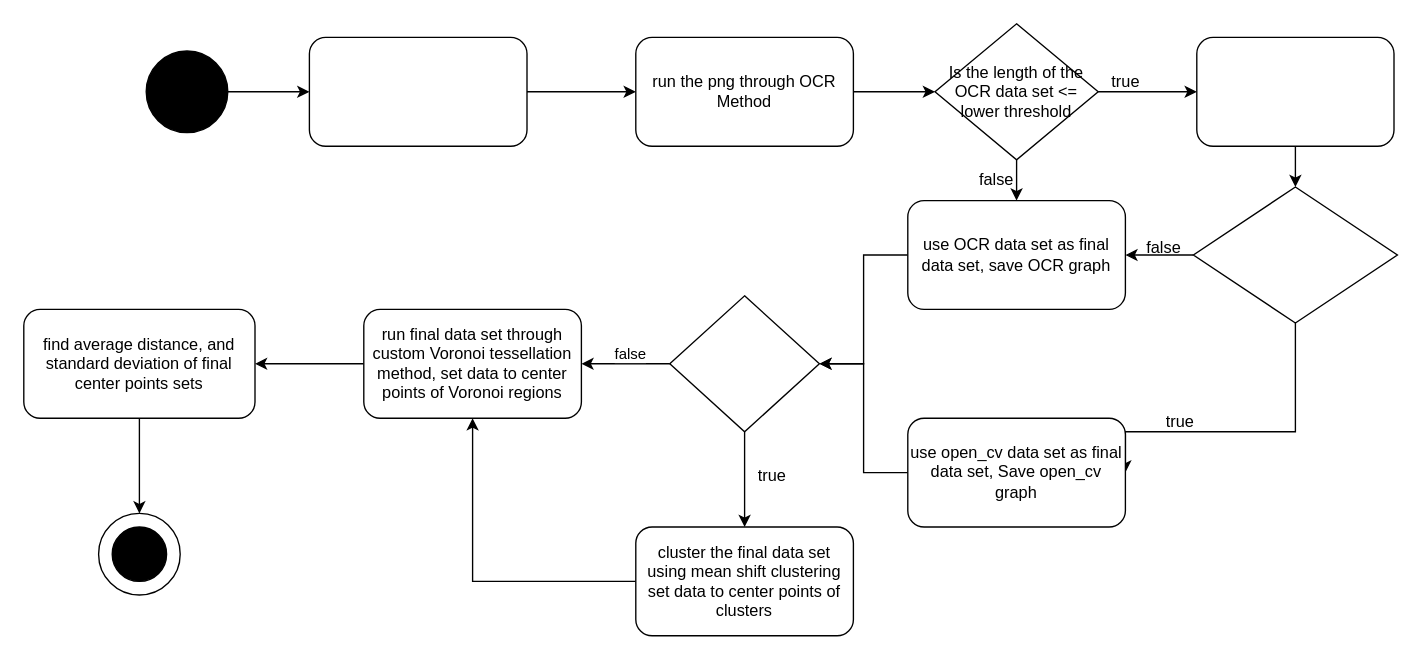
The diagram is 1421 pixels wide and 660 high, and some of its shapes have lost their labels. The shapes that lost their labels are listed below. From the top down, each one's centre as x and y in pixels, then its label:
At pixel 417 91: "convert a pdf to png from specified source directory".
At pixel 1294 91: "run the png through open_cv method".
At pixel 1294 254: "length of OCR data < length of Open_cv data".
At pixel 743 363: "is length of final data set >upper threshold".
